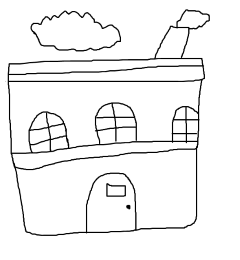closed_window: (92, 98, 139, 148), (23, 107, 71, 152), (168, 101, 200, 143)
clouds: (29, 11, 122, 51)
door: (81, 167, 142, 240)
roof: (7, 56, 205, 85)
smoking_chimney: (154, 7, 216, 58)
wall: (6, 80, 202, 235)
